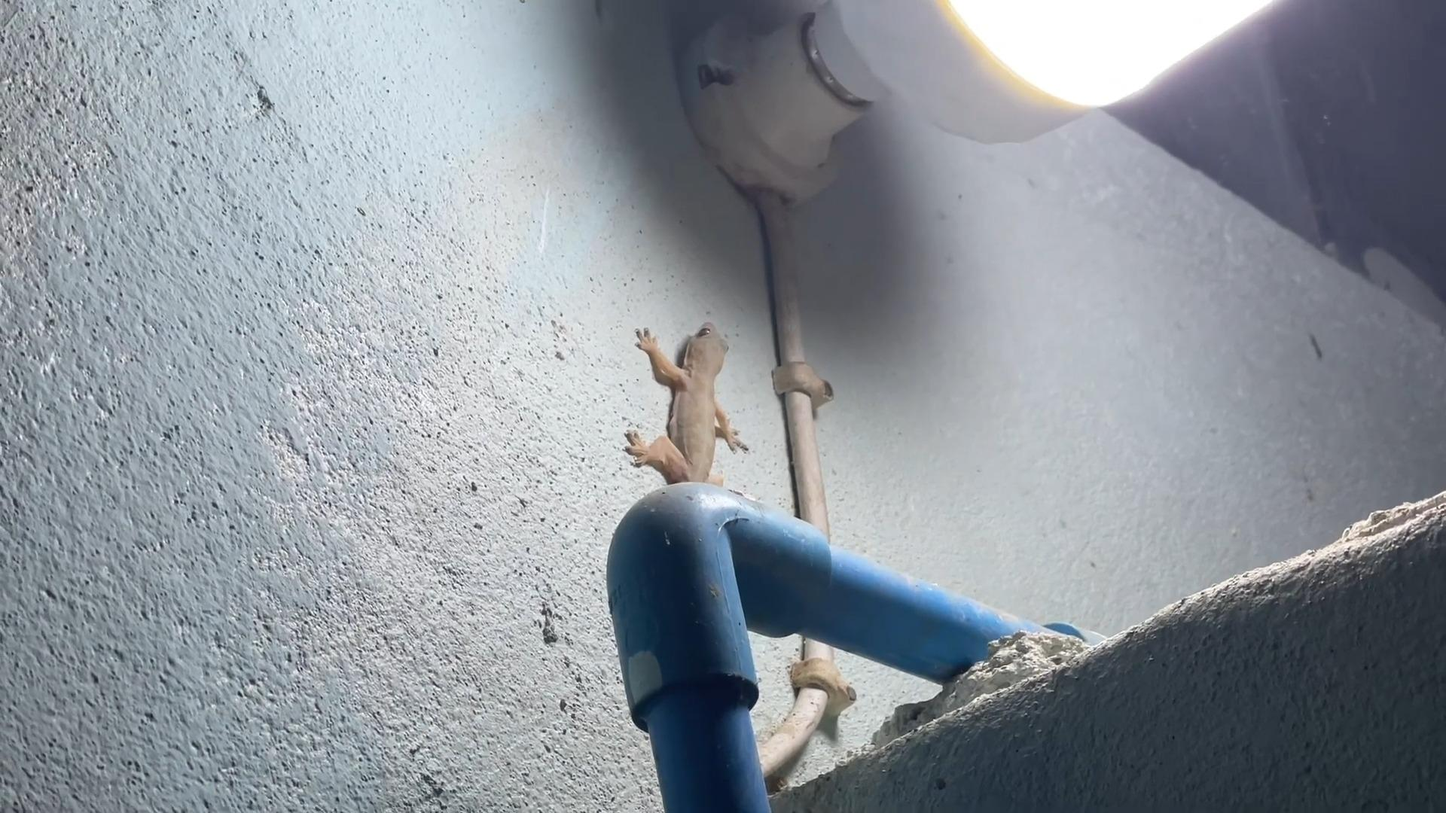lizard: (622, 313, 750, 462)
